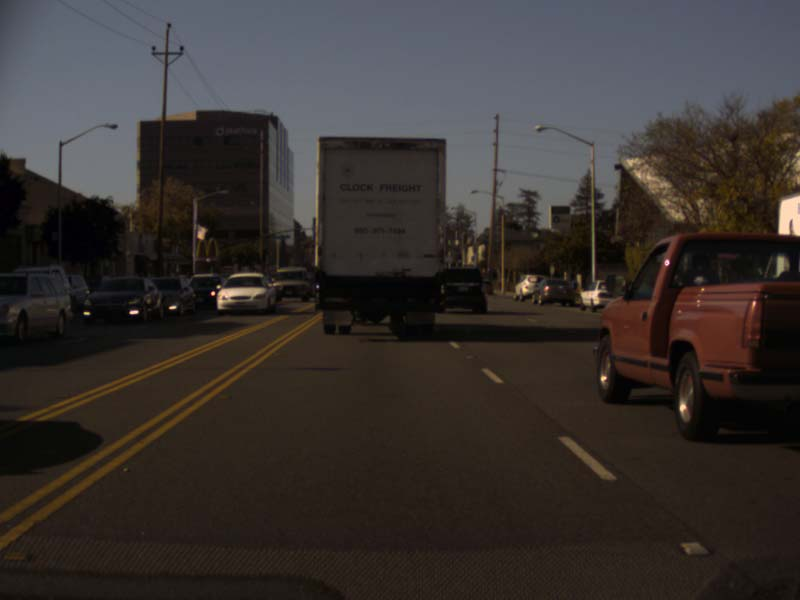Green: (457, 253, 461, 263)
